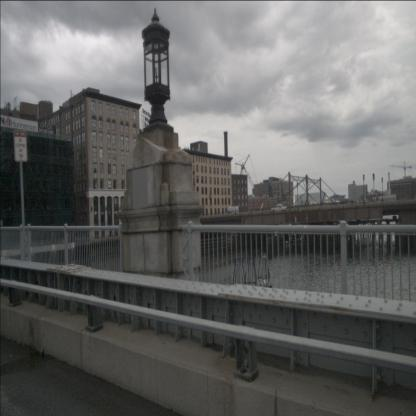vehicle-truck: (271, 204, 287, 213), (226, 206, 239, 217)
